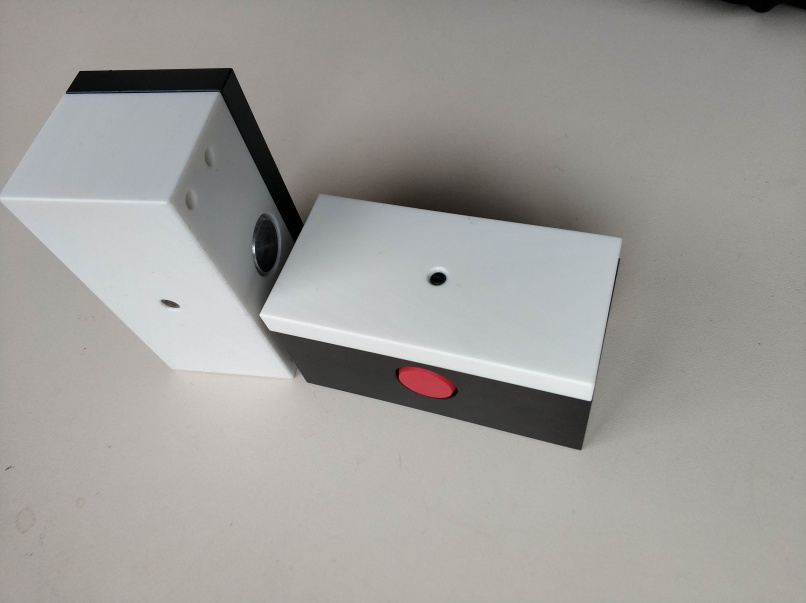black+white+silver: (1, 64, 304, 382)
white+black+red: (256, 191, 626, 453)
